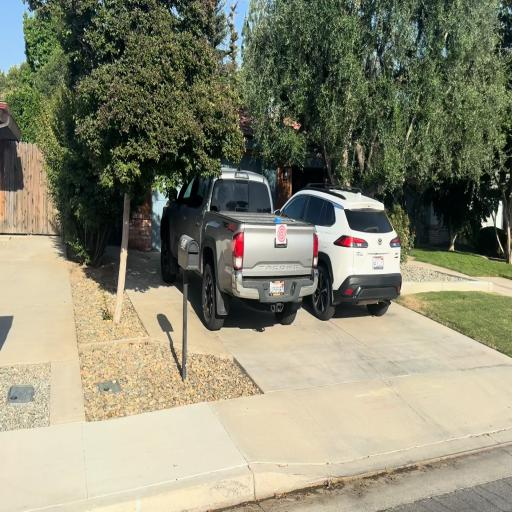bullseye: (277, 225, 287, 244)
